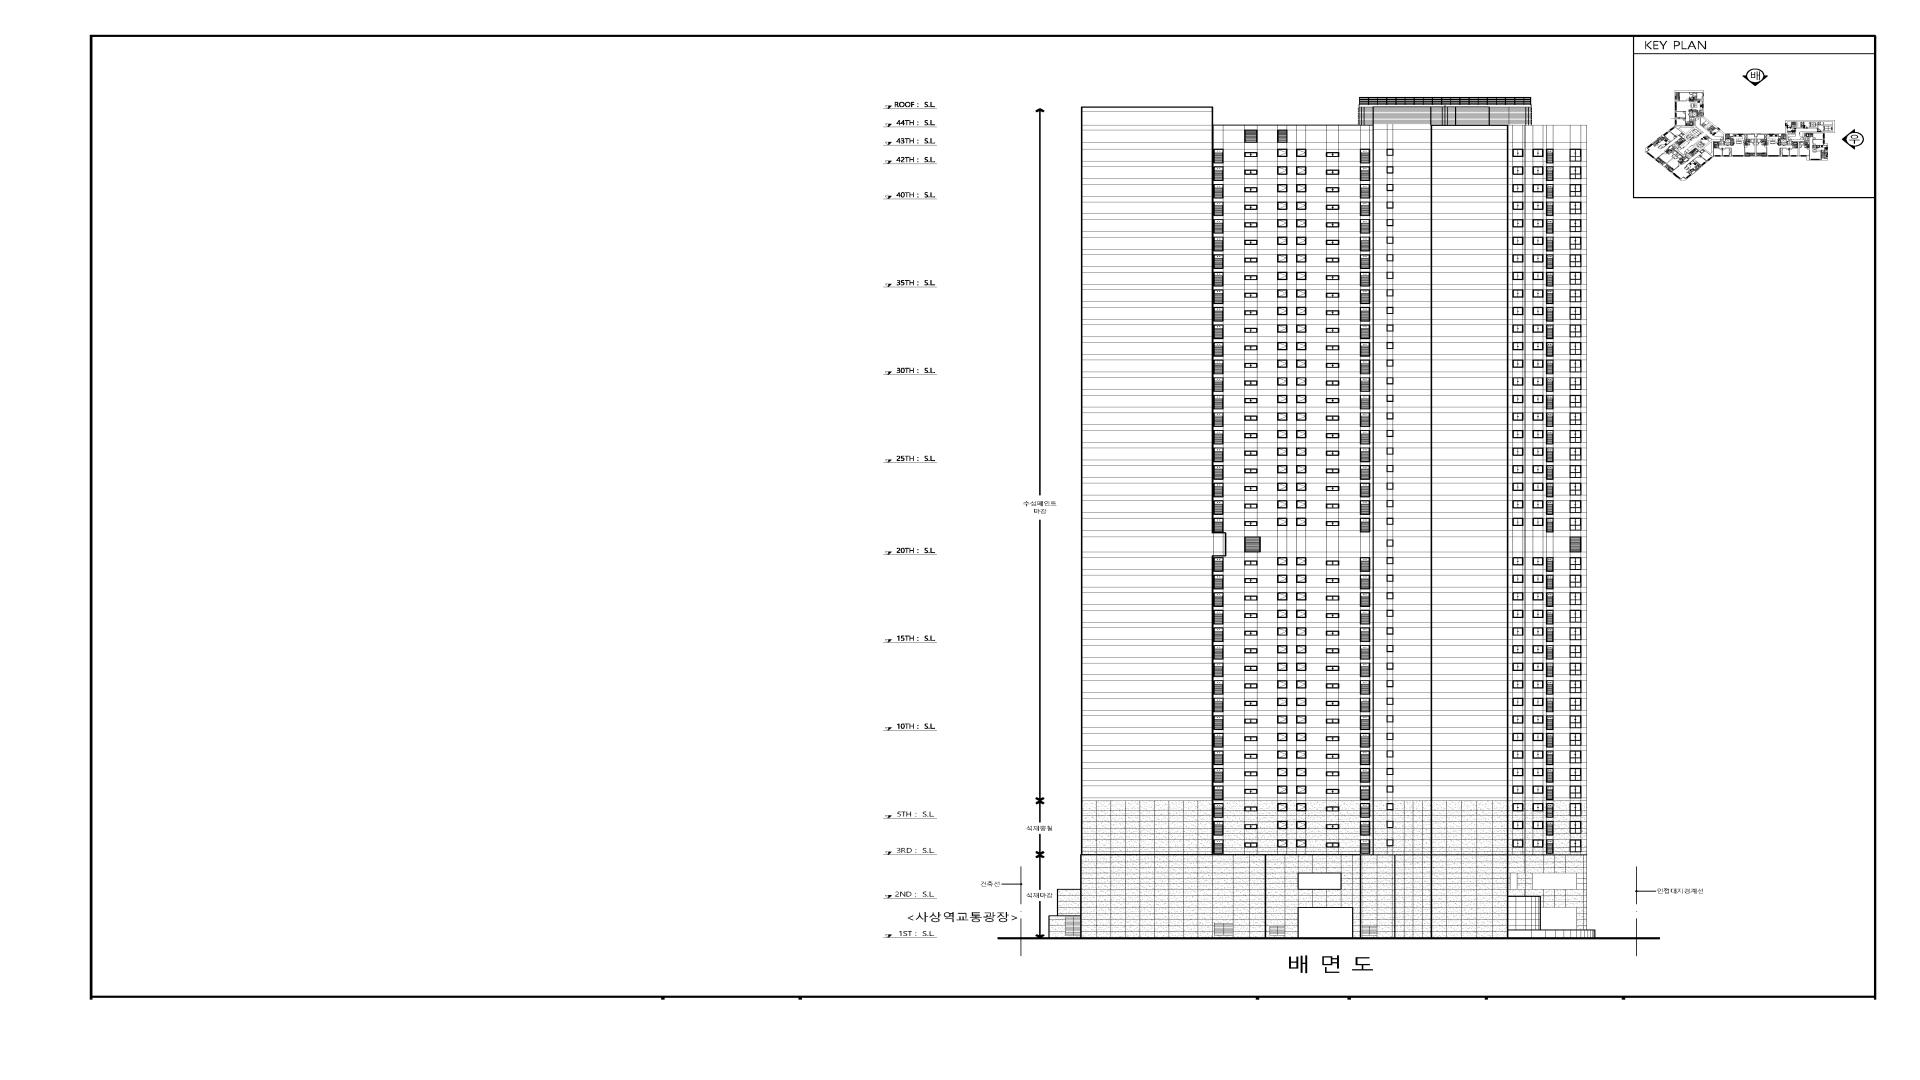door: (1298, 907, 1353, 938), (1541, 907, 1577, 930)
wall: (1048, 105, 1595, 939)
window: (1298, 873, 1342, 890), (1532, 873, 1577, 889), (1244, 537, 1261, 552), (1244, 130, 1258, 143), (1213, 219, 1224, 234), (1213, 254, 1224, 269), (1213, 500, 1224, 515), (1213, 627, 1224, 642), (1213, 645, 1224, 660), (1570, 537, 1581, 552), (1213, 733, 1224, 748), (1213, 785, 1224, 800), (1570, 839, 1582, 852), (1570, 821, 1582, 834), (1570, 785, 1582, 798), (1570, 750, 1582, 763), (1570, 733, 1582, 746), (1570, 715, 1582, 728), (1570, 698, 1582, 711), (1569, 680, 1581, 693), (1570, 645, 1582, 658), (1570, 627, 1582, 640), (1570, 592, 1582, 605), (1570, 557, 1582, 570), (1569, 465, 1581, 478), (1570, 447, 1582, 460), (1569, 430, 1581, 443), (1570, 412, 1582, 425), (1570, 395, 1582, 408), (1570, 377, 1582, 390), (1570, 324, 1582, 337), (1570, 307, 1582, 320), (1570, 272, 1582, 285), (1570, 254, 1582, 267), (1570, 237, 1582, 250), (1569, 219, 1581, 232), (1570, 184, 1582, 197), (1569, 149, 1581, 162), (1213, 483, 1224, 497), (1214, 166, 1224, 181), (1214, 184, 1224, 199), (1214, 272, 1224, 287), (1214, 289, 1224, 304), (1214, 307, 1224, 322), (1213, 324, 1223, 339), (1214, 342, 1224, 357), (1214, 377, 1224, 392), (1214, 395, 1224, 410), (1214, 412, 1224, 427), (1214, 430, 1224, 445), (1214, 465, 1224, 480), (1214, 557, 1224, 572), (1214, 592, 1224, 607), (1360, 447, 1370, 462), (1360, 430, 1370, 445), (1360, 377, 1370, 392), (1360, 342, 1370, 357), (1360, 324, 1370, 339), (1360, 307, 1370, 322), (1360, 289, 1370, 304), (1360, 272, 1370, 287), (1360, 254, 1370, 269), (1360, 219, 1370, 234), (1360, 184, 1370, 199), (1360, 166, 1370, 181), (1213, 680, 1223, 695), (1214, 715, 1224, 730), (1213, 750, 1223, 765), (1214, 768, 1224, 783), (1213, 803, 1223, 818), (1214, 821, 1224, 836), (1213, 839, 1223, 854), (1360, 839, 1370, 854), (1360, 821, 1370, 836), (1360, 803, 1370, 818), (1360, 785, 1370, 800), (1360, 768, 1370, 783), (1361, 750, 1371, 765), (1360, 733, 1370, 748), (1360, 715, 1370, 730), (1360, 698, 1370, 713), (1360, 680, 1370, 695), (1360, 645, 1370, 660), (1360, 627, 1370, 642), (1360, 592, 1370, 607), (1360, 557, 1370, 572), (1360, 518, 1370, 533), (1360, 500, 1370, 515), (1360, 482, 1370, 497), (1360, 465, 1370, 480), (1570, 663, 1582, 675), (1569, 610, 1581, 622), (1569, 575, 1581, 587), (1570, 483, 1582, 495), (1570, 202, 1582, 214), (1570, 803, 1581, 816), (1570, 768, 1581, 781), (1570, 500, 1581, 513), (1570, 342, 1581, 355), (1570, 289, 1581, 302), (1570, 166, 1581, 179), (1277, 130, 1288, 143), (1214, 149, 1224, 163), (1214, 202, 1224, 216), (1213, 237, 1223, 251), (1214, 360, 1224, 374), (1213, 448, 1223, 462), (1213, 518, 1223, 532), (1214, 575, 1224, 589), (1214, 610, 1224, 624), (1360, 413, 1370, 427), (1360, 395, 1370, 409), (1360, 360, 1370, 374), (1360, 237, 1370, 251), (1360, 202, 1370, 216), (1360, 149, 1370, 163), (1214, 663, 1224, 677), (1214, 698, 1224, 712), (1360, 663, 1370, 677), (1360, 610, 1370, 624), (1360, 575, 1370, 589), (1570, 518, 1581, 530), (1570, 360, 1581, 372), (1546, 149, 1554, 164), (1546, 166, 1554, 181), (1546, 184, 1554, 199), (1546, 219, 1554, 234), (1546, 237, 1554, 252), (1546, 254, 1554, 269), (1546, 307, 1554, 322), (1546, 342, 1554, 357), (1546, 324, 1554, 339), (1546, 377, 1554, 392), (1546, 395, 1554, 410), (1546, 412, 1554, 427), (1546, 430, 1554, 445), (1546, 447, 1554, 462), (1546, 465, 1554, 480), (1546, 500, 1554, 515), (1546, 518, 1554, 533), (1546, 557, 1554, 572), (1546, 592, 1554, 607), (1546, 627, 1554, 642), (1546, 645, 1554, 660), (1546, 680, 1554, 695), (1546, 662, 1554, 677), (1546, 715, 1554, 730), (1546, 750, 1554, 765), (1546, 768, 1554, 783), (1546, 785, 1554, 800), (1546, 803, 1554, 818), (1546, 821, 1554, 836), (1546, 839, 1554, 854), (1546, 202, 1554, 216), (1546, 272, 1554, 286), (1546, 290, 1554, 304), (1546, 360, 1554, 374), (1546, 483, 1554, 497), (1546, 575, 1554, 589), (1546, 610, 1554, 624), (1546, 698, 1554, 712), (1546, 733, 1554, 747), (1512, 592, 1523, 601), (1512, 627, 1523, 636), (1512, 645, 1523, 654), (1512, 715, 1523, 724), (1512, 219, 1523, 228), (1512, 289, 1523, 298), (1512, 359, 1523, 368), (1512, 465, 1523, 474), (1533, 219, 1544, 228), (1532, 254, 1543, 263), (1532, 289, 1543, 298), (1532, 359, 1543, 368), (1533, 377, 1544, 386), (1533, 412, 1544, 421), (1532, 447, 1543, 456), (1532, 592, 1543, 601), (1533, 627, 1544, 636), (1277, 254, 1288, 263), (1277, 377, 1288, 386), (1512, 557, 1523, 566), (1533, 680, 1544, 689), (1533, 839, 1544, 848), (1277, 680, 1288, 689), (1296, 359, 1307, 368), (1513, 377, 1523, 386), (1513, 447, 1523, 456), (1533, 324, 1543, 333), (1277, 166, 1287, 175), (1277, 289, 1287, 298), (1277, 324, 1287, 333), (1277, 627, 1287, 636), (1277, 715, 1287, 724), (1277, 750, 1287, 759), (1277, 839, 1287, 848), (1296, 839, 1306, 848), (1296, 785, 1306, 794), (1296, 750, 1306, 759), (1296, 715, 1306, 724), (1296, 627, 1306, 636), (1296, 412, 1306, 421), (1296, 377, 1306, 386), (1296, 324, 1306, 333), (1296, 289, 1306, 298), (1512, 663, 1523, 671), (1512, 680, 1523, 688), (1512, 698, 1523, 706), (1512, 733, 1523, 741), (1513, 751, 1524, 759), (1513, 768, 1524, 776), (1512, 786, 1523, 794), (1513, 803, 1524, 811), (1512, 821, 1523, 829), (1512, 840, 1523, 848), (1512, 149, 1523, 157), (1532, 149, 1543, 157), (1512, 166, 1523, 174), (1532, 166, 1543, 174), (1512, 184, 1523, 192), (1532, 184, 1543, 192), (1512, 202, 1523, 210), (1512, 254, 1523, 262), (1512, 307, 1523, 315), (1512, 325, 1523, 333), (1512, 342, 1523, 350), (1512, 395, 1523, 403), (1512, 413, 1523, 421), (1512, 430, 1523, 438), (1512, 483, 1523, 491), (1512, 500, 1523, 508), (1512, 518, 1523, 526), (1532, 202, 1543, 210), (1532, 237, 1543, 245), (1532, 272, 1543, 280), (1532, 307, 1543, 315), (1532, 342, 1543, 350), (1532, 395, 1543, 403), (1532, 430, 1543, 438), (1532, 465, 1543, 473), (1532, 483, 1543, 491), (1532, 500, 1543, 508), (1533, 518, 1544, 526), (1532, 557, 1543, 565), (1533, 575, 1544, 583), (1532, 610, 1543, 618), (1277, 219, 1288, 227), (1277, 500, 1288, 508), (1277, 557, 1288, 565), (1532, 663, 1543, 671), (1533, 698, 1544, 706), (1532, 715, 1543, 723), (1532, 751, 1543, 759), (1533, 768, 1544, 776), (1533, 786, 1544, 794), (1532, 803, 1543, 811), (1533, 821, 1544, 829), (1277, 610, 1288, 618), (1277, 645, 1288, 653), (1296, 448, 1307, 456), (1296, 395, 1307, 403), (1296, 272, 1307, 280), (1296, 202, 1307, 210), (1296, 184, 1307, 192), (1513, 575, 1523, 583), (1513, 610, 1523, 618), (1513, 237, 1523, 245), (1513, 272, 1523, 280), (1533, 645, 1543, 653), (1277, 149, 1287, 157), (1277, 184, 1287, 192), (1277, 202, 1287, 210), (1277, 237, 1287, 245), (1277, 272, 1287, 280), (1277, 307, 1287, 315), (1277, 342, 1287, 350), (1277, 360, 1287, 368), (1277, 395, 1287, 403), (1277, 413, 1287, 421), (1277, 430, 1287, 438), (1277, 448, 1287, 456), (1277, 465, 1287, 473), (1277, 483, 1287, 491), (1277, 518, 1287, 526), (1277, 575, 1287, 583), (1533, 733, 1543, 741), (1277, 592, 1287, 600), (1277, 663, 1287, 671), (1277, 698, 1287, 706), (1277, 733, 1287, 741), (1277, 768, 1287, 776), (1277, 786, 1287, 794), (1277, 803, 1287, 811), (1277, 821, 1287, 829), (1296, 821, 1306, 829), (1296, 803, 1306, 811), (1296, 768, 1306, 776), (1296, 733, 1306, 741), (1296, 698, 1306, 706), (1296, 680, 1306, 688), (1296, 663, 1306, 671), (1296, 645, 1306, 653), (1296, 610, 1306, 618), (1296, 592, 1306, 600), (1296, 575, 1306, 583), (1296, 557, 1306, 565), (1296, 518, 1306, 526), (1296, 500, 1306, 508), (1296, 483, 1306, 491), (1296, 465, 1306, 473), (1296, 430, 1306, 438), (1296, 342, 1306, 350), (1296, 307, 1306, 315), (1296, 254, 1306, 262), (1296, 237, 1306, 245), (1296, 219, 1306, 227), (1296, 166, 1306, 174), (1296, 149, 1306, 157), (1326, 275, 1340, 280), (1326, 310, 1340, 315), (1244, 328, 1258, 333), (1244, 310, 1258, 315), (1244, 275, 1258, 280), (1244, 258, 1258, 263), (1244, 240, 1258, 245), (1244, 222, 1258, 227), (1244, 205, 1258, 210), (1244, 187, 1258, 192), (1244, 170, 1258, 175), (1244, 152, 1258, 157), (1244, 824, 1258, 829), (1244, 806, 1258, 811), (1244, 789, 1258, 794), (1244, 771, 1258, 776), (1244, 754, 1258, 759), (1244, 736, 1258, 741), (1244, 719, 1258, 724), (1244, 701, 1258, 706), (1244, 683, 1258, 688), (1244, 648, 1258, 653), (1244, 631, 1258, 636), (1244, 613, 1258, 618), (1244, 560, 1258, 565), (1244, 521, 1258, 526), (1244, 503, 1258, 508), (1244, 468, 1258, 473), (1244, 451, 1258, 456), (1244, 433, 1258, 438), (1244, 415, 1258, 420), (1244, 398, 1258, 403), (1244, 380, 1258, 385), (1244, 363, 1258, 368), (1244, 345, 1258, 350), (1326, 152, 1339, 157), (1326, 170, 1339, 175), (1326, 187, 1339, 192), (1326, 205, 1339, 210), (1326, 222, 1339, 227), (1326, 240, 1339, 245), (1326, 258, 1339, 263), (1326, 293, 1339, 298), (1326, 328, 1339, 333), (1326, 345, 1339, 350), (1326, 363, 1339, 368), (1326, 380, 1339, 385), (1326, 398, 1339, 403), (1326, 416, 1339, 421), (1326, 433, 1339, 438), (1326, 451, 1339, 456), (1326, 486, 1339, 491), (1326, 504, 1339, 509), (1326, 521, 1339, 526), (1326, 578, 1339, 583), (1326, 596, 1339, 601), (1326, 613, 1339, 618), (1326, 631, 1339, 636), (1326, 648, 1339, 653), (1326, 666, 1339, 671), (1326, 683, 1339, 688), (1326, 701, 1339, 706), (1326, 719, 1339, 724), (1326, 736, 1339, 741), (1326, 754, 1339, 759), (1244, 293, 1257, 298), (1326, 771, 1339, 776), (1326, 789, 1339, 794), (1326, 806, 1339, 811), (1326, 824, 1339, 829), (1326, 842, 1339, 847), (1244, 666, 1257, 671), (1244, 595, 1257, 600), (1244, 578, 1257, 583), (1244, 486, 1257, 491), (1386, 324, 1393, 332), (1386, 785, 1393, 793), (1244, 843, 1258, 847), (1326, 469, 1339, 473), (1326, 561, 1339, 565), (1386, 272, 1393, 279), (1387, 289, 1394, 296), (1386, 377, 1393, 384), (1387, 430, 1394, 437), (1386, 557, 1393, 564), (1386, 592, 1393, 599), (1387, 715, 1394, 722), (1386, 733, 1393, 740), (1386, 166, 1393, 173), (1386, 202, 1393, 209), (1387, 219, 1394, 226), (1387, 359, 1393, 367), (1387, 447, 1393, 455), (1387, 750, 1393, 758), (1387, 839, 1393, 847), (1387, 237, 1393, 244), (1387, 254, 1393, 261), (1387, 307, 1393, 314), (1387, 342, 1393, 349), (1387, 395, 1393, 402), (1387, 413, 1393, 420), (1387, 465, 1393, 472), (1387, 483, 1393, 490), (1387, 500, 1393, 507), (1387, 518, 1393, 525), (1387, 540, 1393, 547), (1387, 575, 1393, 582), (1387, 610, 1393, 617), (1387, 627, 1393, 634), (1387, 645, 1393, 652), (1387, 663, 1393, 670), (1387, 680, 1393, 687), (1387, 698, 1393, 705), (1387, 768, 1393, 775), (1387, 803, 1393, 810), (1387, 149, 1393, 156), (1387, 184, 1393, 191), (1387, 821, 1393, 828)
